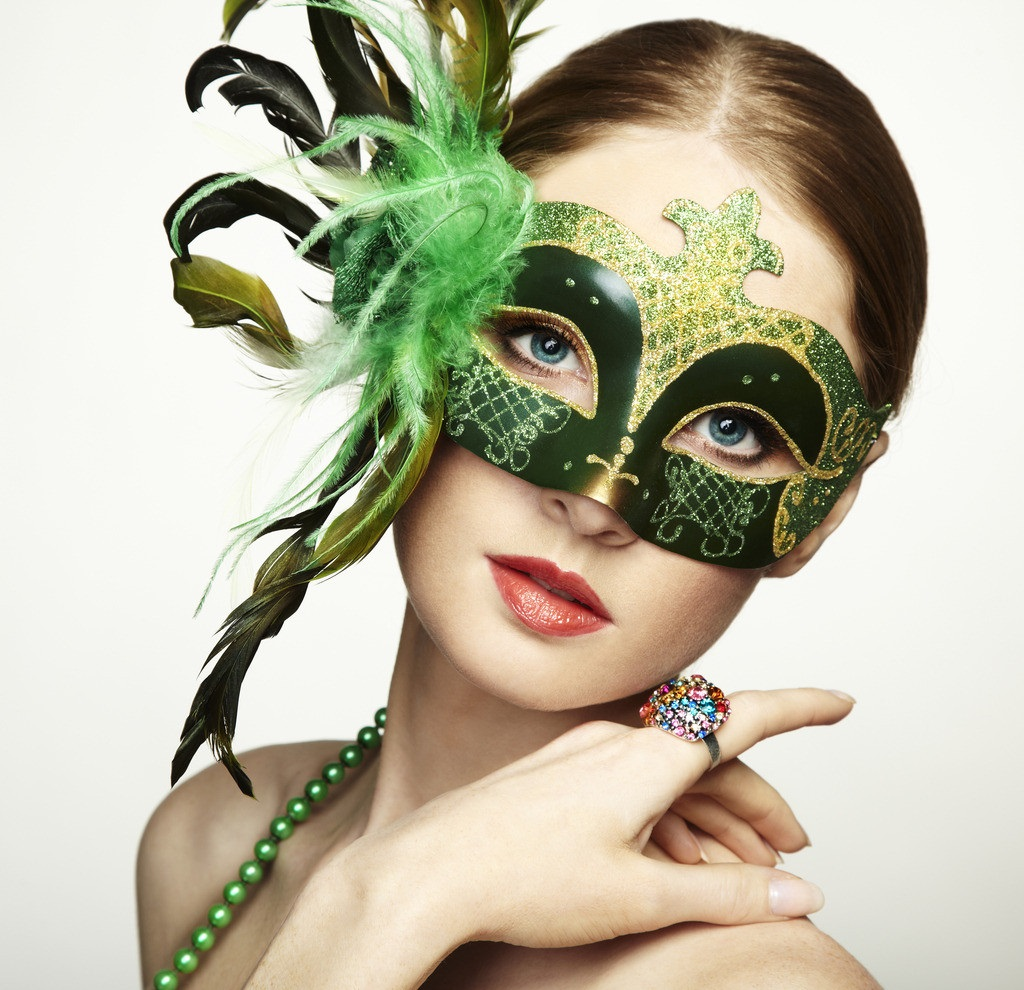face: (400, 146, 845, 707)
